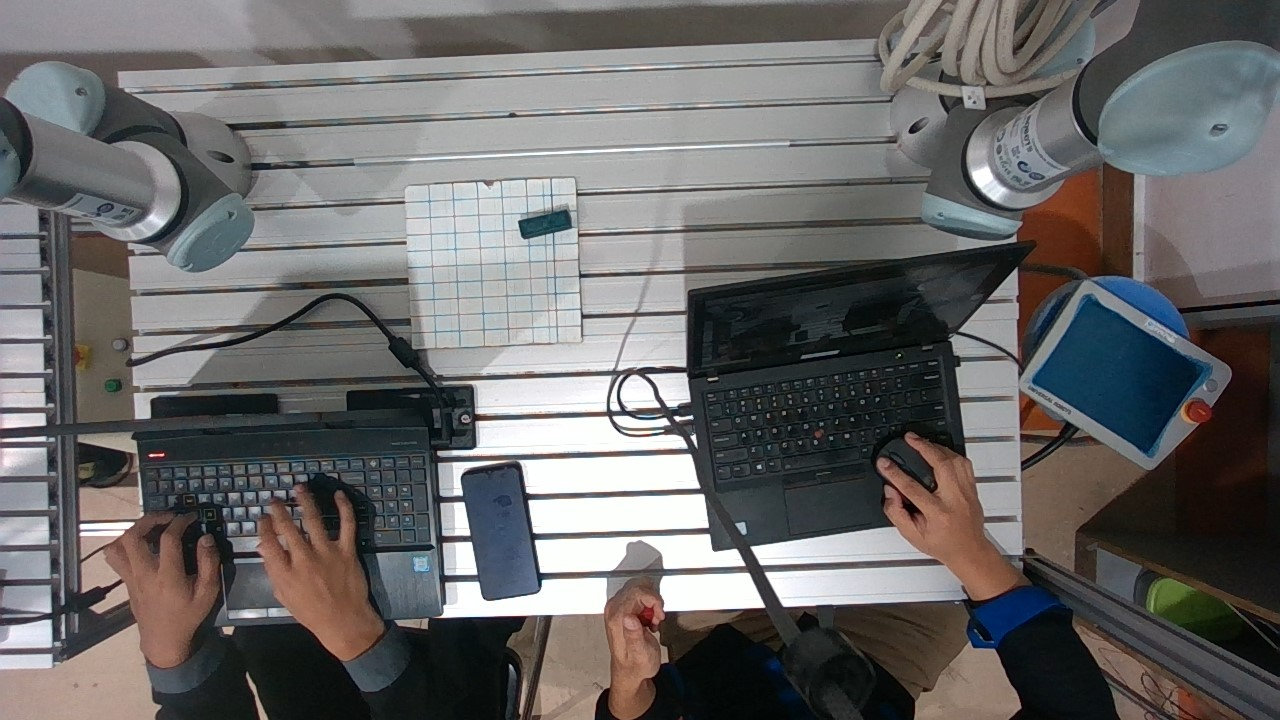box: (497, 209, 601, 239)
